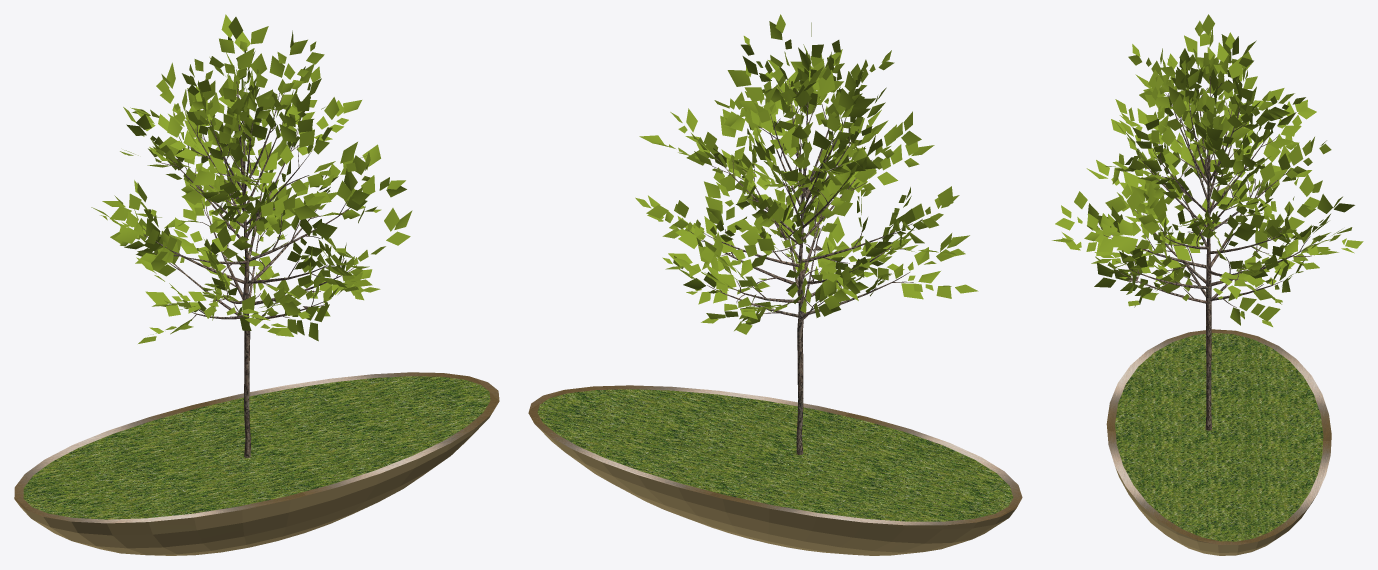
The model's file is GreenPlants.gltf.
3 renders of one model, left to right at view 1: azimuth 30°, elevation 25°; view 2: azimuth 150°, elevation 25°; view 3: azimuth 270°, elevation 25°, orthographic. The views are drawn at different scales.
Parts seen in each view (by area): view 1: 花坛_绿植08; view 2: 花坛_绿植08; view 3: 花坛_绿植08.
Part boxes in pixels (box(x1,y1,x2,y2)): 花坛_绿植08: box(14, 14, 499, 555); 花坛_绿植08: box(528, 14, 1022, 555); 花坛_绿植08: box(1052, 14, 1363, 555).
Size of the model in its own units: 4.79 by 5.01 by 2.93.
6 materials, 4 textured.
